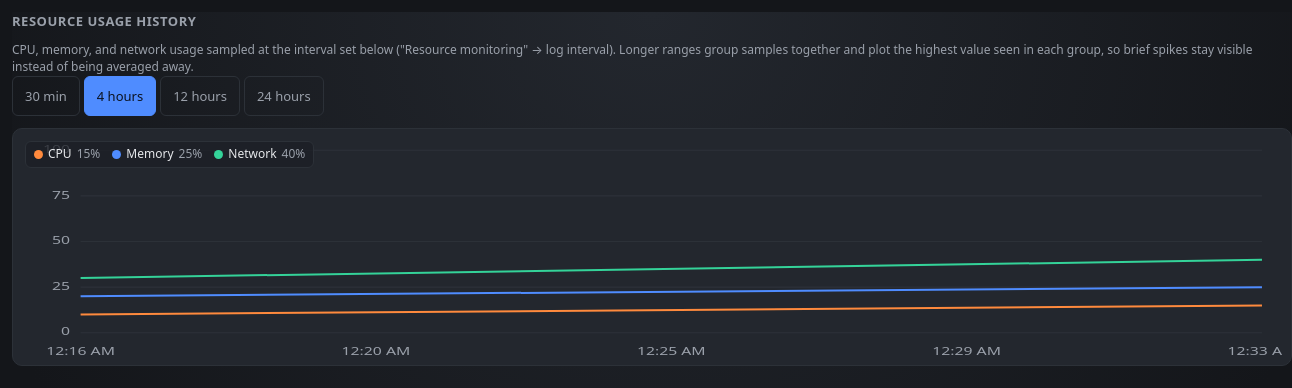
Test case: ResourceHistoryChartSection › refetches history when the range selector changes
Check: the text "15%" is shown, box [77,146,100,163]
Click the button "30 min": (46, 96) [12,76,80,116]
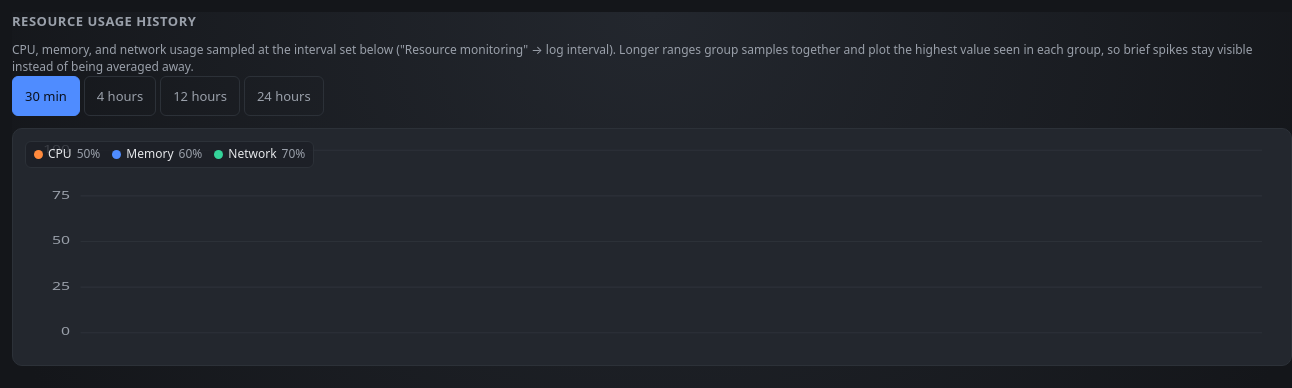
Check: the text "50%" is shown, box [77,146,100,163]
